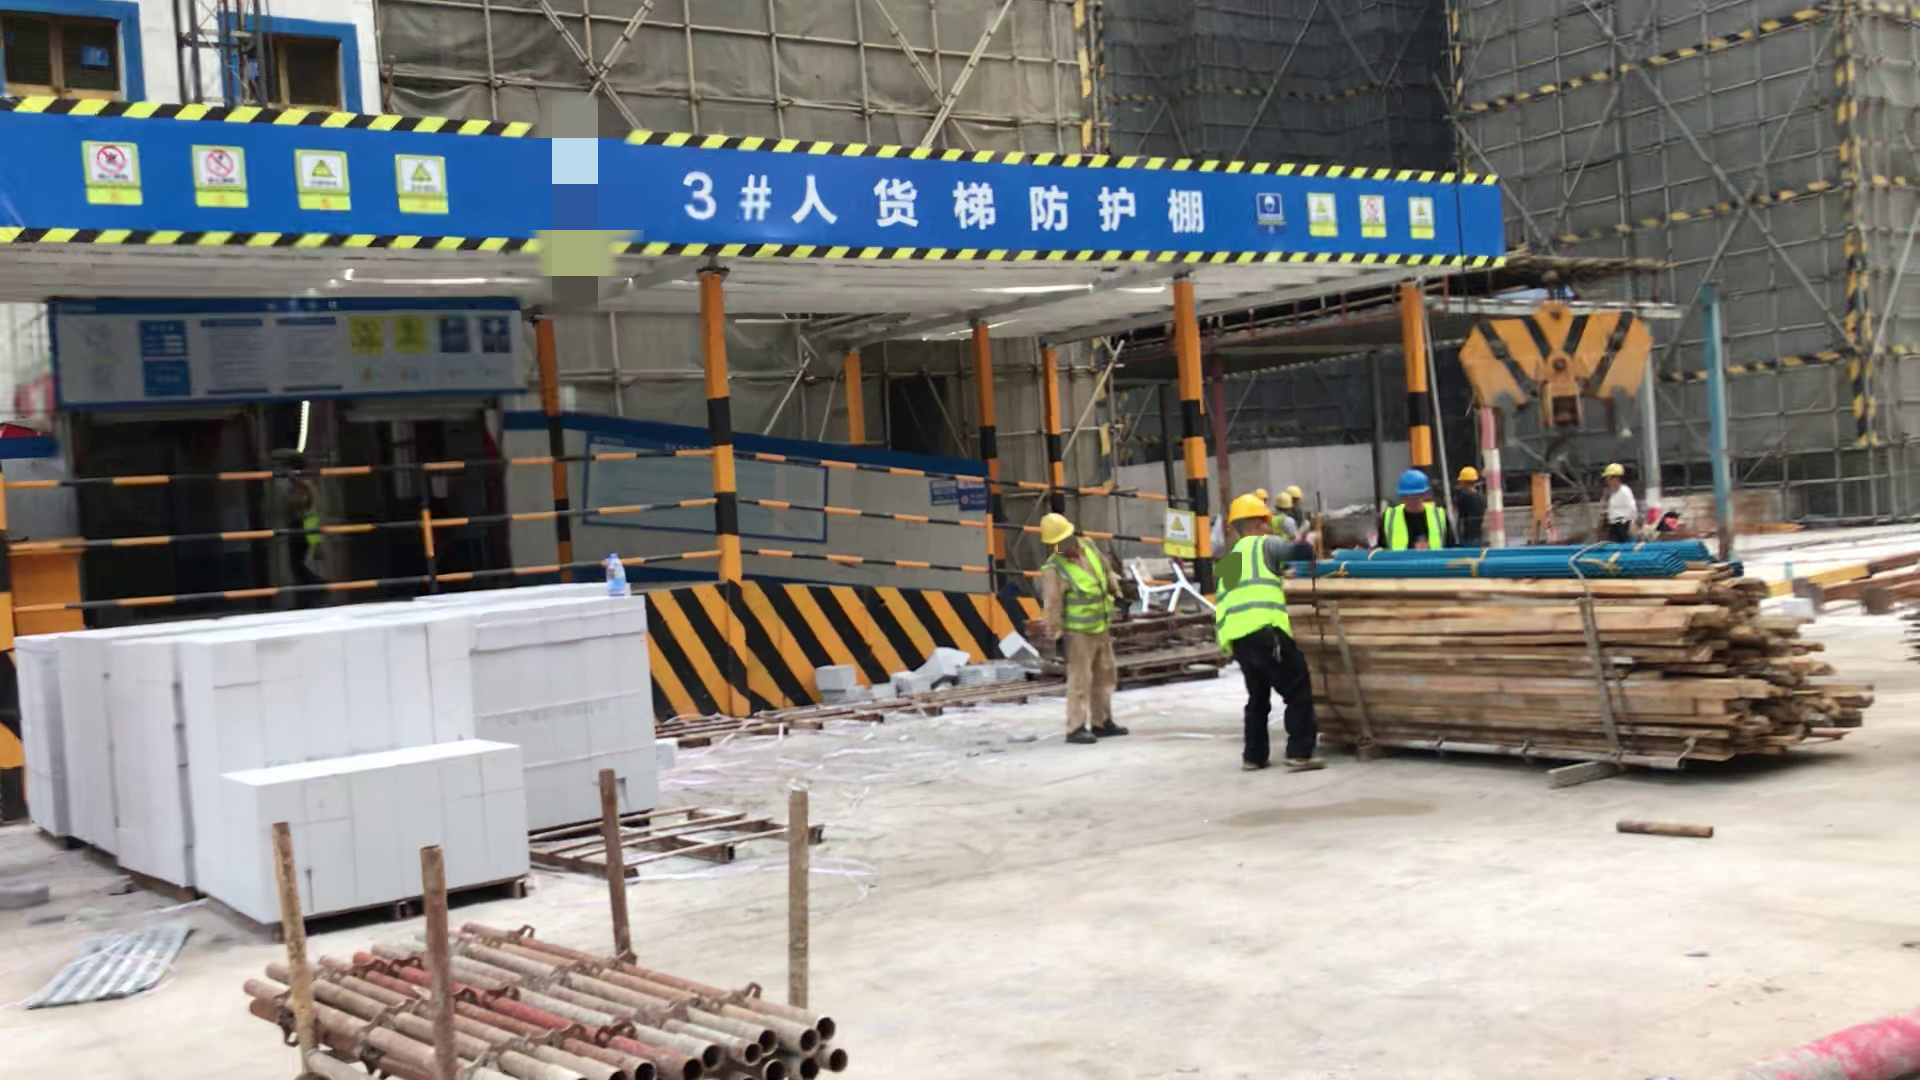brick: (23, 627, 525, 910), (424, 591, 658, 830)
ebox: (1528, 476, 1555, 549)
helmet: (1039, 513, 1075, 543), (1228, 496, 1270, 520), (1398, 471, 1431, 496), (1456, 466, 1479, 482), (1602, 463, 1624, 476), (1278, 494, 1293, 511), (1285, 486, 1304, 498)
hook: (1459, 283, 1655, 477)
person: (1220, 497, 1333, 773), (1033, 515, 1128, 745), (1386, 472, 1442, 561), (1452, 466, 1492, 549), (1602, 463, 1639, 541), (1277, 495, 1307, 541)
scaffold: (251, 930, 846, 1080)
slogan: (69, 143, 461, 235), (1255, 181, 1447, 256), (1162, 506, 1193, 560)
vest: (1209, 542, 1290, 635), (1048, 545, 1109, 637), (1387, 504, 1447, 551)
wood: (1289, 579, 1856, 757)
